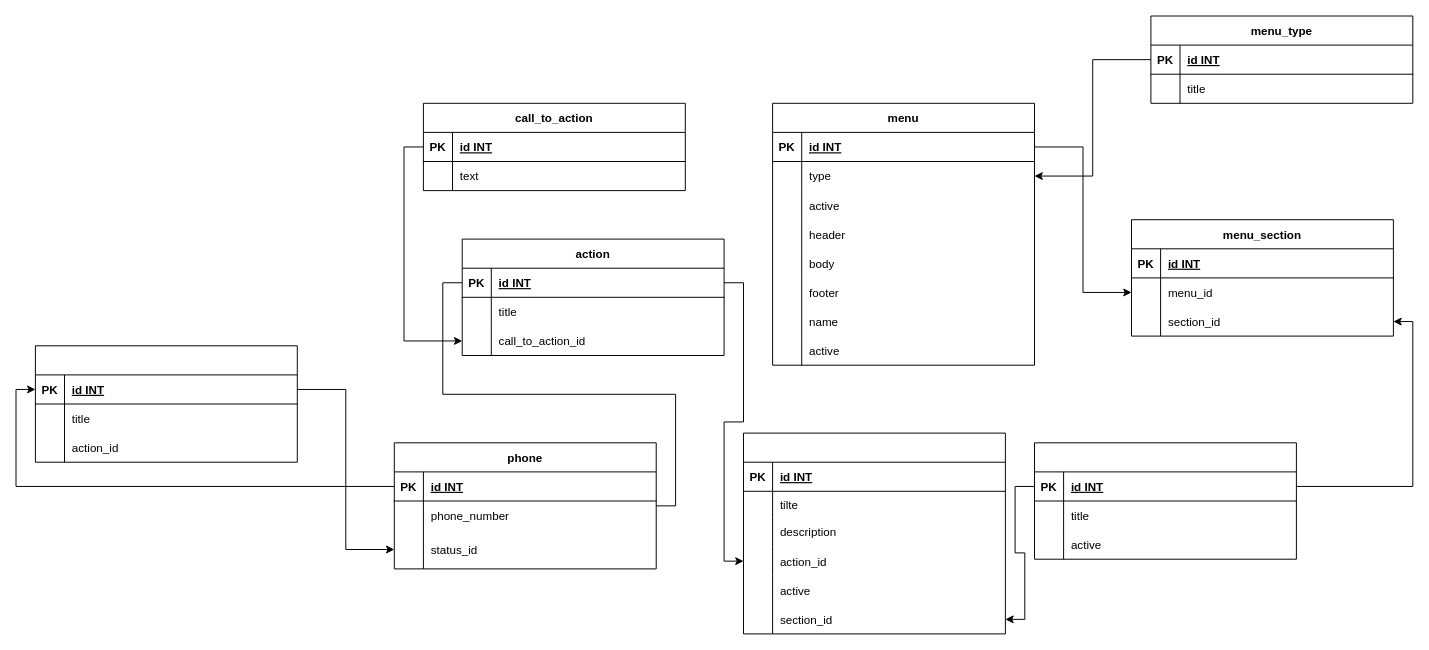
Image size: 1429x650. Some labels were removed from this diagram. Here are the shapes that lost their labels. From the top down, the box of each, then its label:
(34, 345, 297, 462): status
(1034, 442, 1296, 559): section
(743, 432, 1005, 634): option
